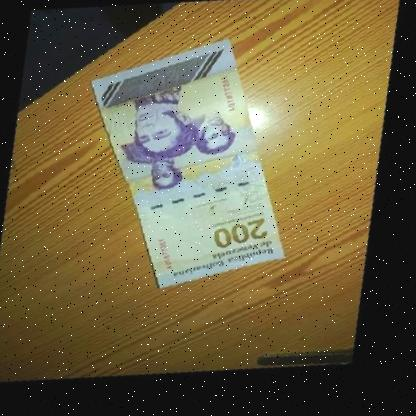two_hundred-front-vef: (41, 11, 343, 323)
